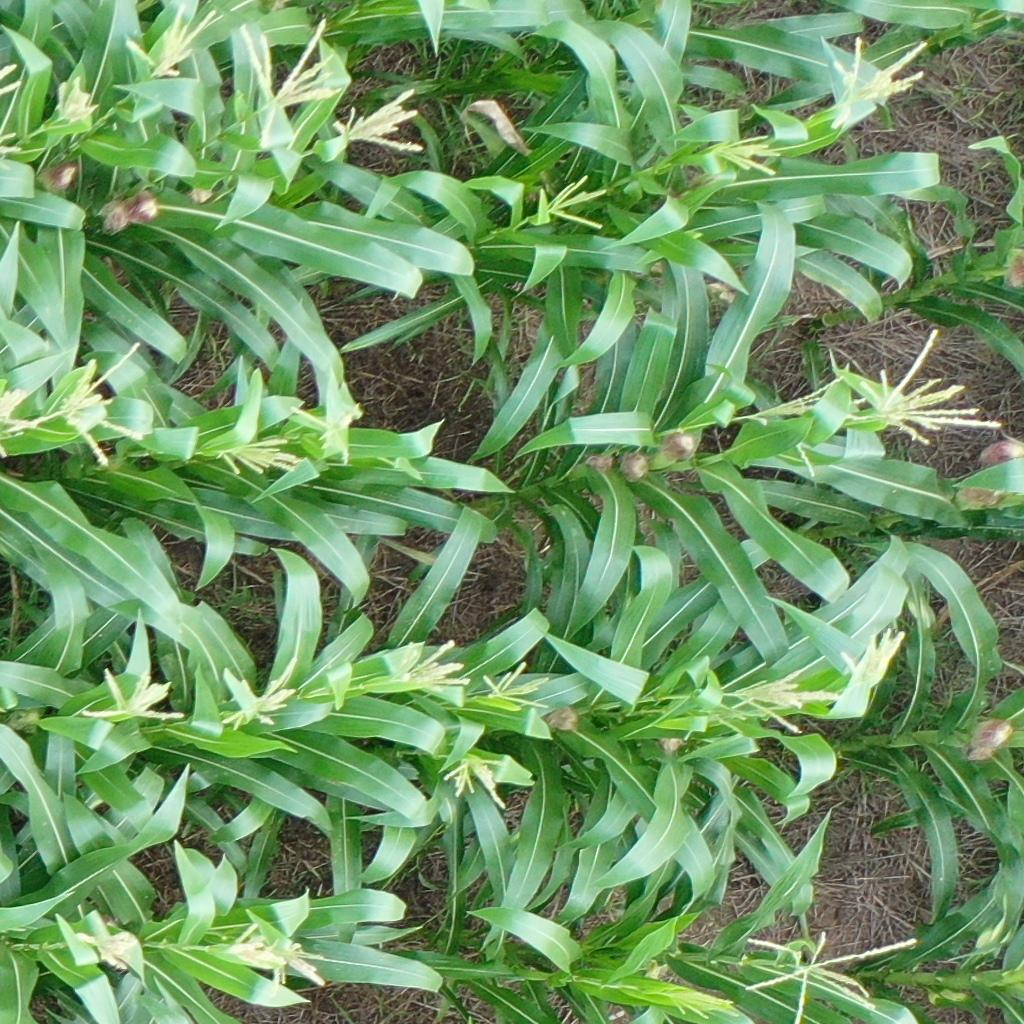Tassel: (734, 925, 917, 1024), (862, 327, 1005, 448), (750, 364, 869, 482), (57, 339, 157, 468), (823, 32, 938, 131), (233, 19, 343, 107), (220, 918, 329, 991), (121, 5, 218, 81), (329, 86, 431, 155), (734, 666, 841, 731), (78, 665, 185, 724), (217, 659, 300, 734), (386, 633, 473, 698), (291, 393, 364, 463), (836, 627, 910, 688), (543, 173, 617, 230), (480, 657, 553, 713), (440, 756, 514, 810), (681, 694, 764, 737), (707, 134, 789, 177), (213, 437, 301, 475), (1, 388, 45, 462), (661, 982, 735, 1019), (75, 923, 134, 967), (52, 77, 101, 127)
